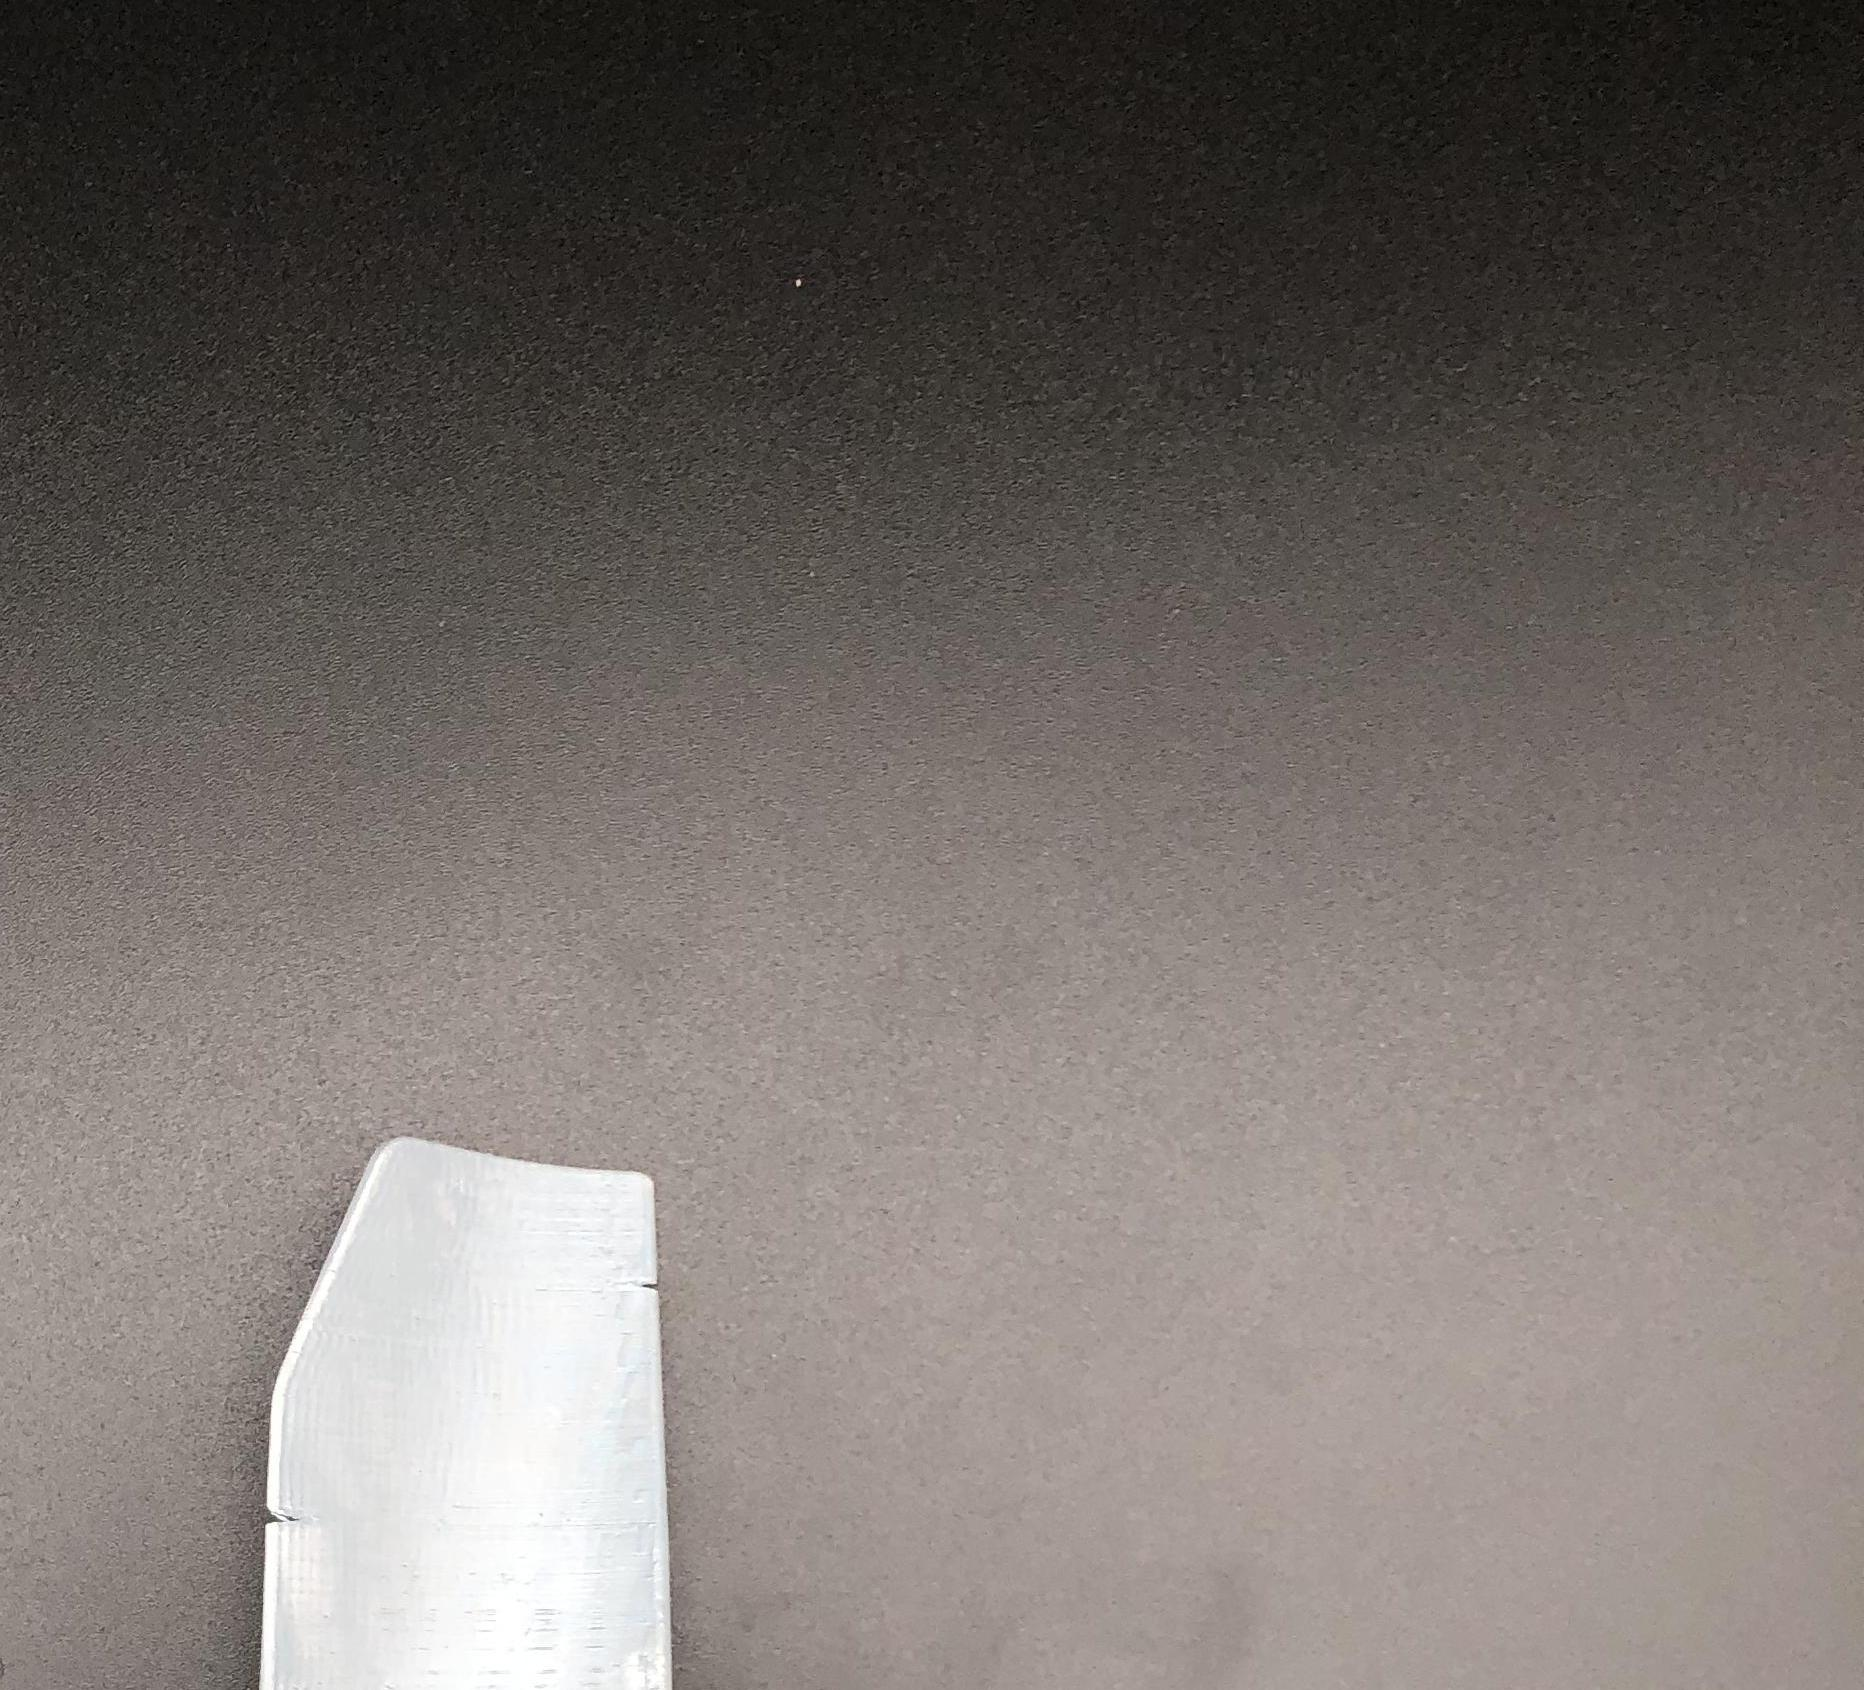groove: (260, 1503, 325, 1533), (632, 1271, 669, 1304)
